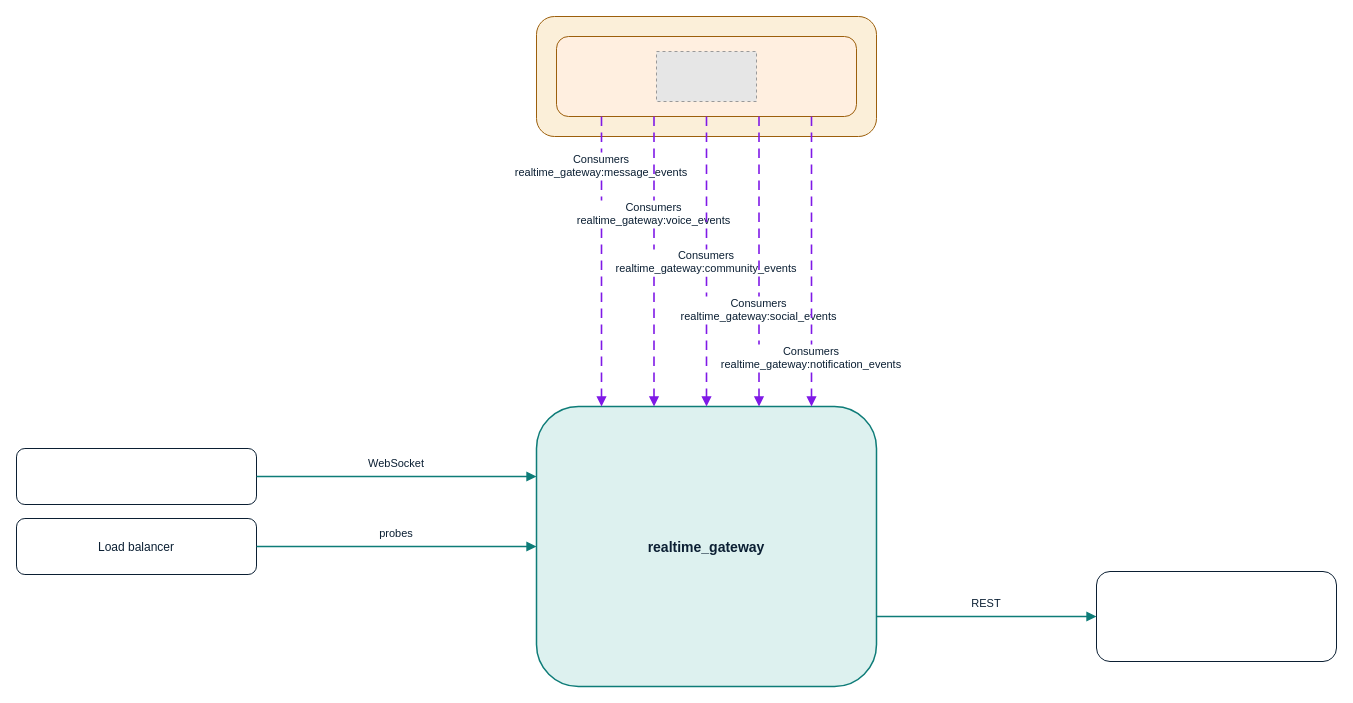
This 1353x703 diagram has some shape labels left out. Grey dashed boxes stand in for pictures. Here are the shapes that lost their labels. From the top down, the centre of each, then its label:
[136,476]: Browser web client
[1216,616]: messaging_service
